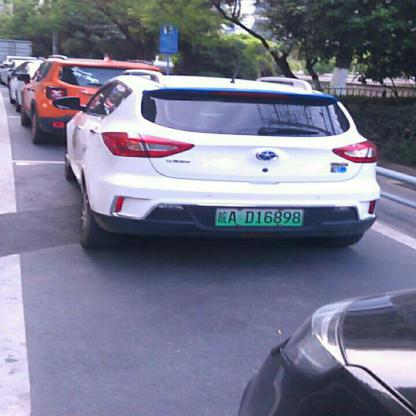lp: (214, 207, 303, 226)
